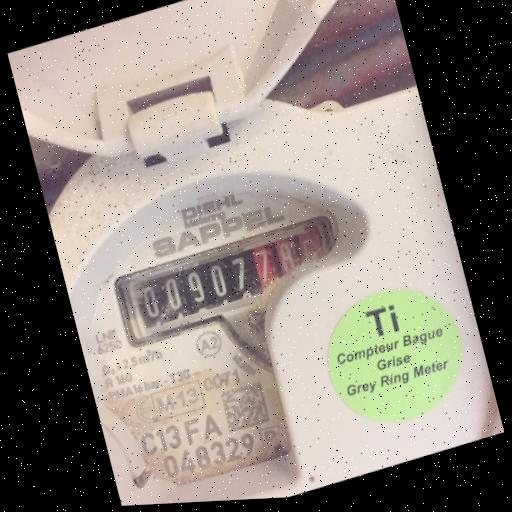0: (133, 278, 169, 331), (157, 270, 192, 322), (203, 257, 235, 308)
5: (294, 223, 326, 265)
7: (225, 249, 262, 302), (251, 242, 283, 294)
8: (270, 234, 305, 278)
9: (181, 263, 215, 316)
border_water_meter_number: (120, 215, 340, 342)
